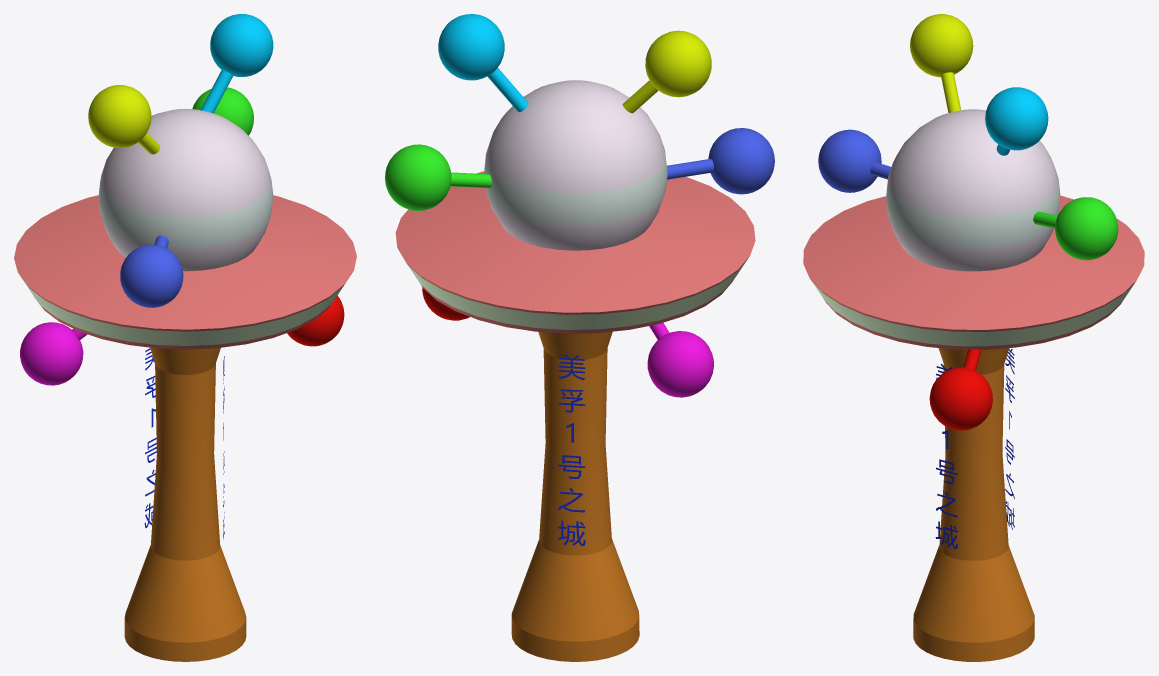
Rendered from fcbox.glb.
3 renders of one model, left to right at view 1: azimuth 30°, elevation 25°; view 2: azimuth 150°, elevation 25°; view 3: azimuth 270°, elevation 25°, orthographic. The views are drawn at different scales.
Visible parts, largest first — view 1: Cylinder.001, Cylinder, Sphere, Sphere.002, Sphere.006, Sphere.007, Sphere.001, Sphere.004, Sphere.003, 文本.003; view 2: Cylinder.001, Cylinder, Sphere, Sphere.002, Sphere.007, Sphere.003, Sphere.006, Sphere.001, 文本.003; view 3: Cylinder.001, Sphere, Cylinder, Sphere.006, Sphere.003, Sphere.004, Sphere.007, Sphere.002, 文本.001, 文本.003.
Part boxes in pixels (x1,y1,x2,y2): Cylinder.001: (14,195,356,349); Cylinder: (124,347,246,661); Sphere: (98,108,273,271); Sphere.002: (200,14,273,113); Sphere.006: (88,85,160,154); Sphere.007: (120,235,183,307); Sphere.001: (20,322,87,385); Sphere.004: (287,295,344,346); Sphere.003: (192,87,253,135); 文本.003: (144,348,156,527); Cylinder.001: (395,171,755,333); Cylinder: (511,331,639,661); Sphere: (484,80,667,250); Sphere.002: (438,14,528,112); Sphere.007: (667,128,774,194); Sphere.003: (385,144,491,210); Sphere.006: (622,30,711,113); Sphere.001: (647,323,713,397); 文本.003: (558,354,585,545); Cylinder.001: (803,195,1144,349); Sphere: (886,109,1060,271); Cylinder: (913,348,1034,661); Sphere.006: (910,14,973,112); Sphere.003: (1033,197,1118,260); Sphere.004: (929,349,992,430); Sphere.007: (818,129,891,192); Sphere.002: (985,87,1048,155); 文本.001: (935,364,957,548); 文本.003: (1005,349,1014,529).
Bounding box in the file's own units: 0.3381 × 0.6377 × 0.3379.
